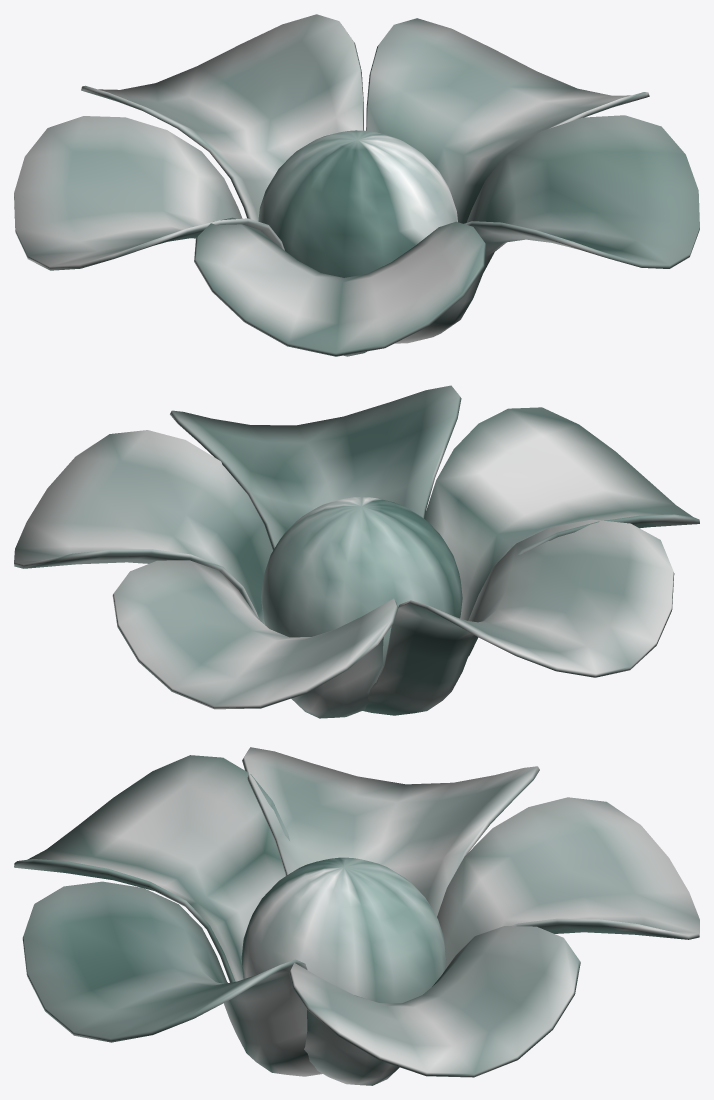
Rendered from FLOR.glb.
3 views of the same model, one above another, from view 1: azimuth 30°, elevation 25°; view 2: azimuth 150°, elevation 25°; view 3: azimuth 270°, elevation 25° (orthographic).
Visible parts, largest first — view 1: Plane.007; view 2: Plane.007; view 3: Plane.007.
Boxes of the visible parts, x1,y1,x2,y2 form: Plane.007: (14, 14, 699, 356); Plane.007: (14, 385, 699, 718); Plane.007: (14, 747, 699, 1085).
Bounding box in the file's own units: 7.15 × 2.26 × 6.98.
